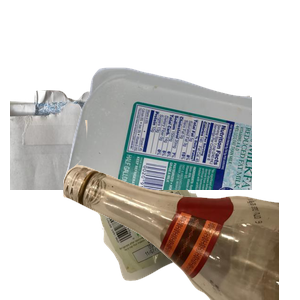glass: (60, 120, 300, 300)
paper: (10, 84, 250, 264)
plastic: (60, 65, 300, 245)
trash: (84, 126, 291, 300)
